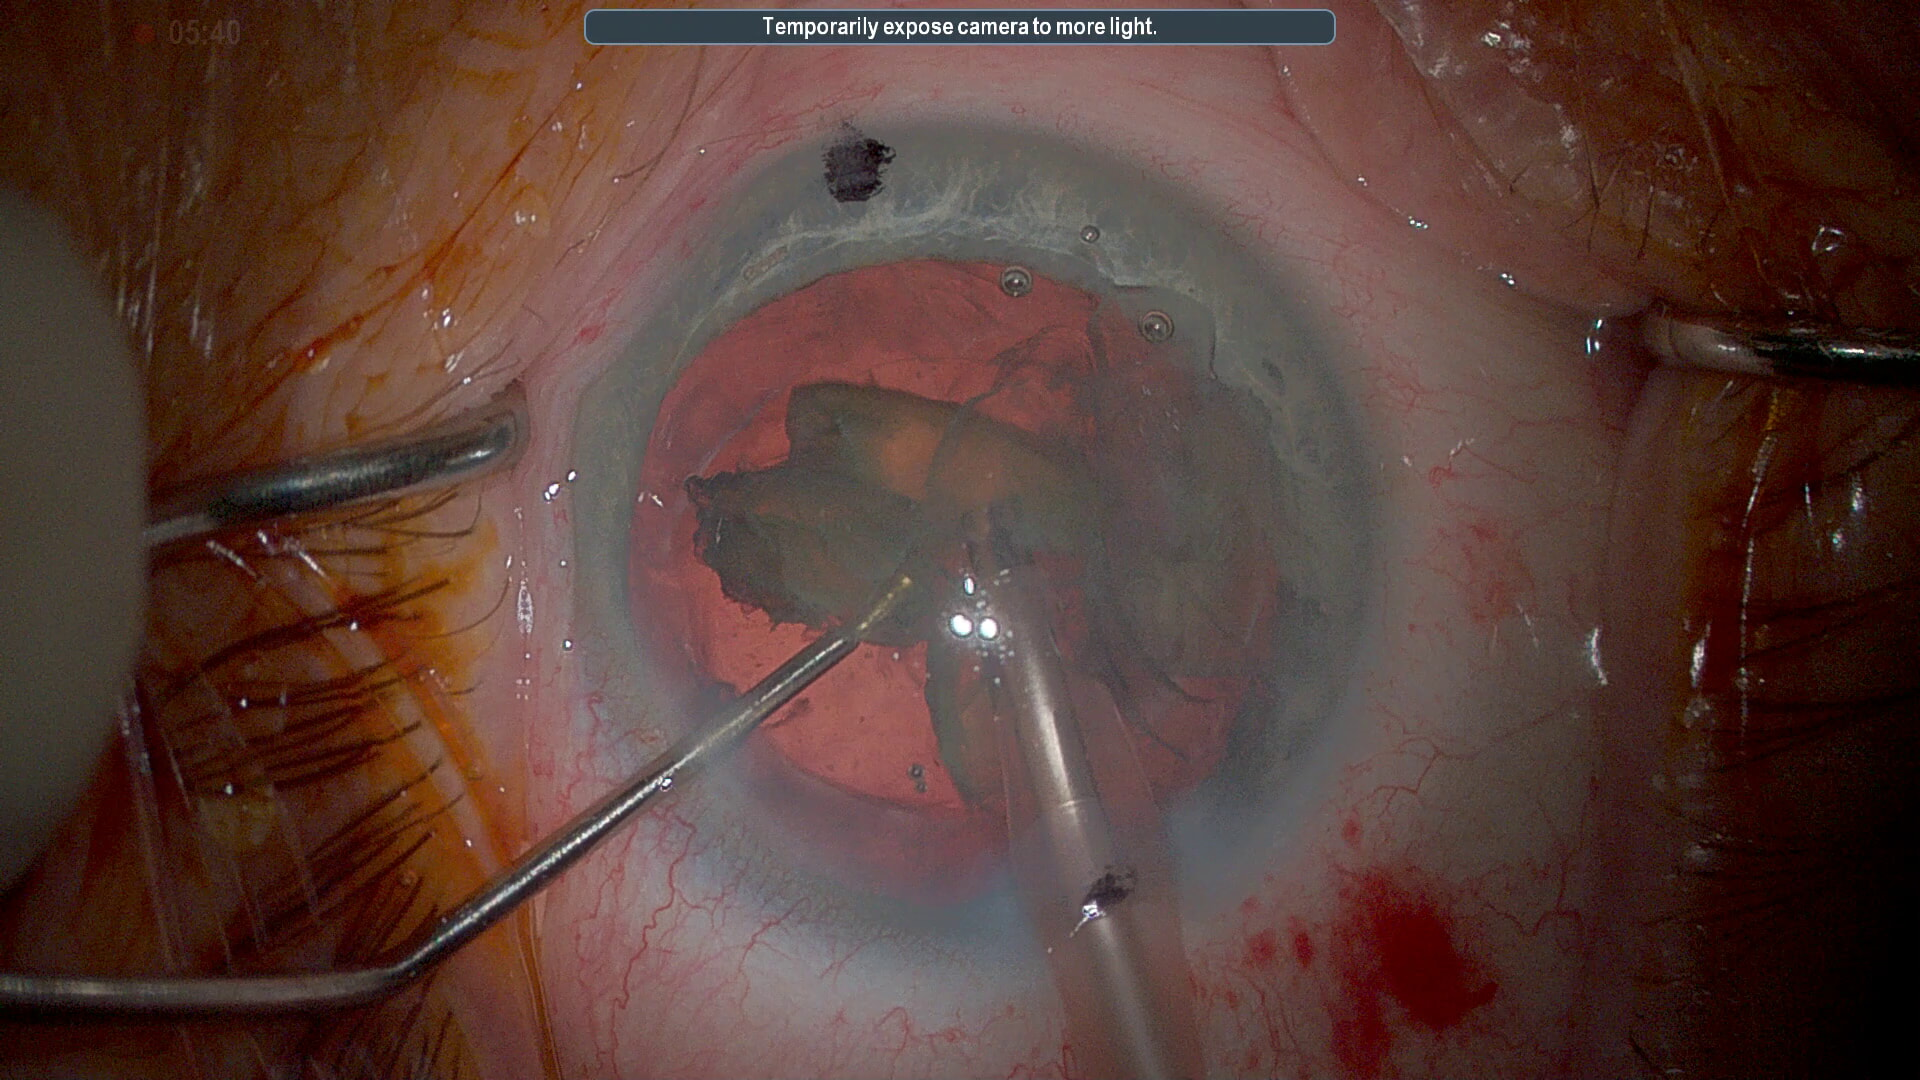iris: (581, 129, 1372, 934)
pupil: (620, 258, 1274, 880)
